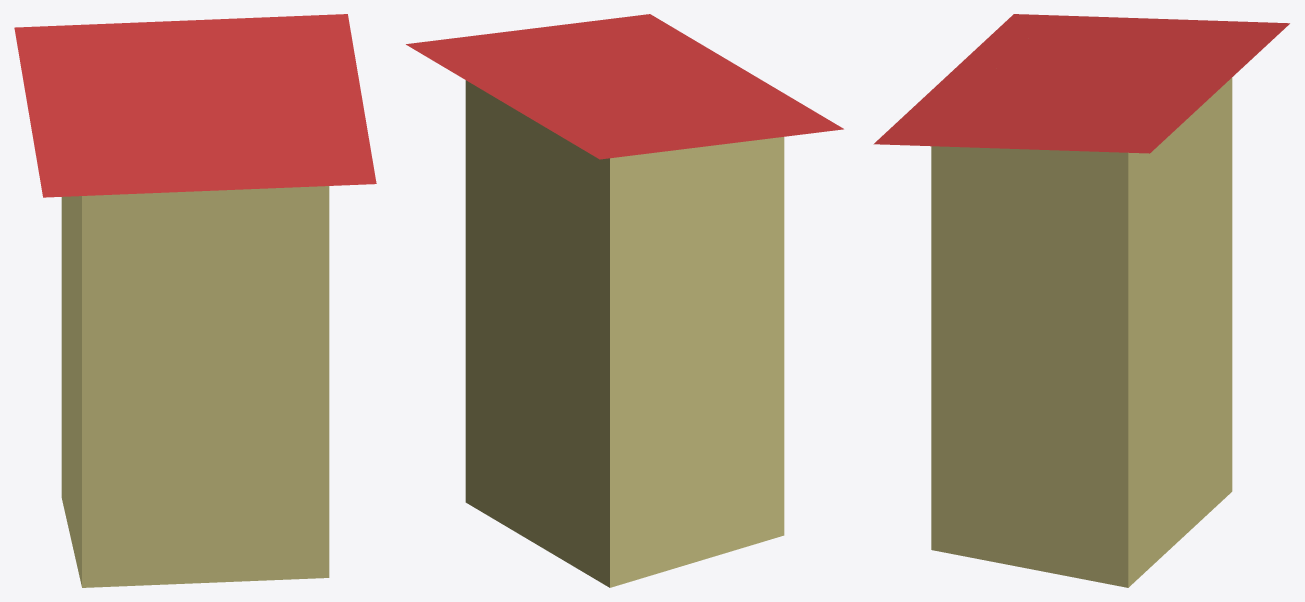
The picture shows the model from 3 angles, left to right: view 1: azimuth 30°, elevation 25°; view 2: azimuth 150°, elevation 25°; view 3: azimuth 270°, elevation 25°; orthographic projection.
Bounding box in the file's own units: 4.95 × 4.76 × 5.77.
